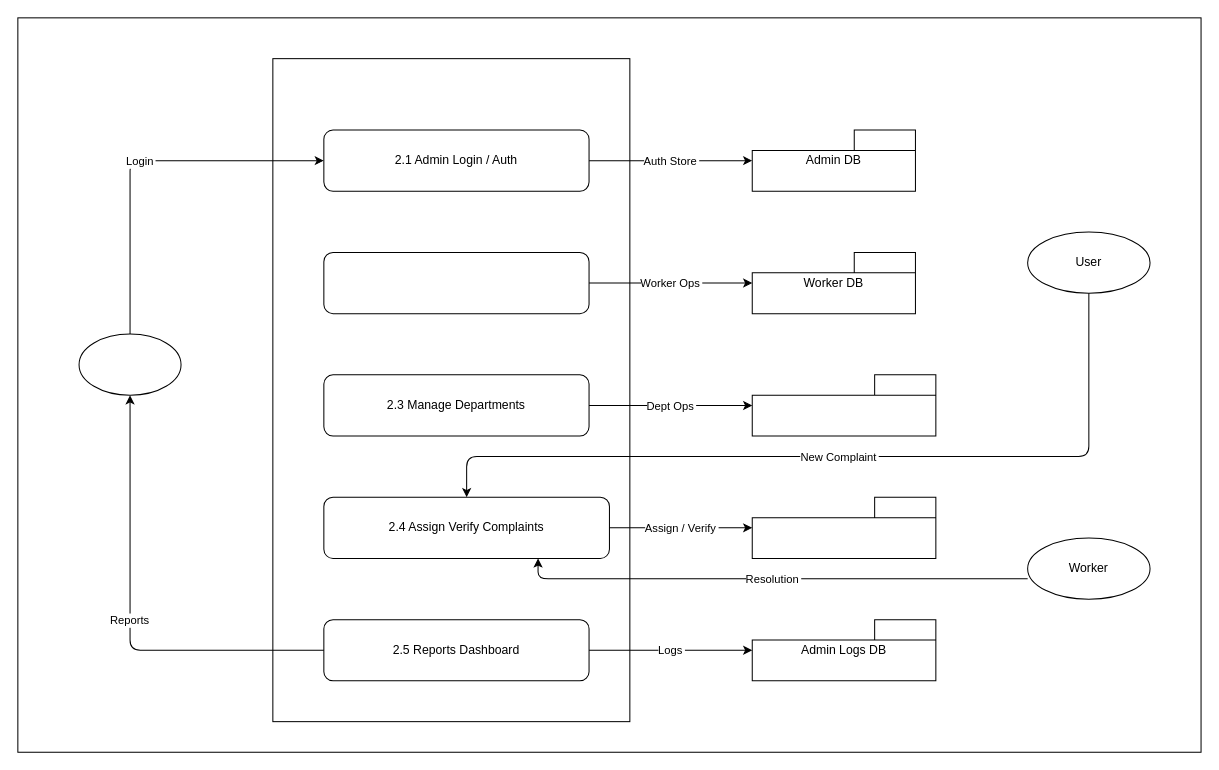
The diagram is 1219 pixels wide and 770 high, and some of its shapes have lost their labels. The centre of each missing label's shape, as x and y in pixels:
2.2 Manage Workers: point (456, 282)
Admin: point (129, 364)
Complaints DB: point (843, 527)
Department DB: point (843, 405)
